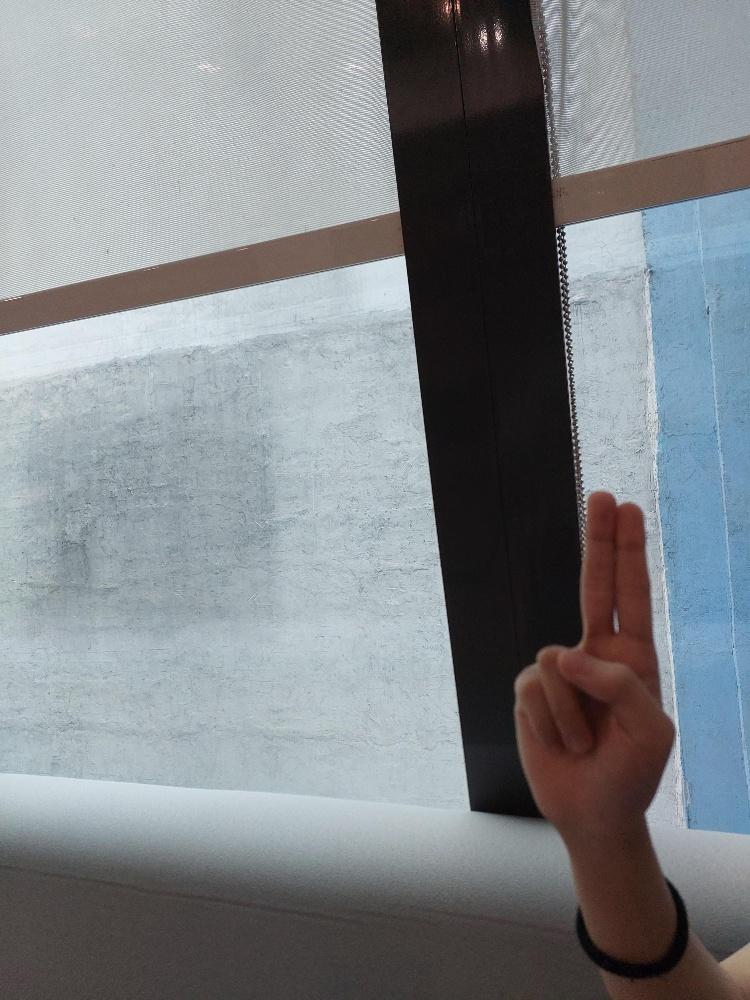u: (512, 489, 675, 814)
